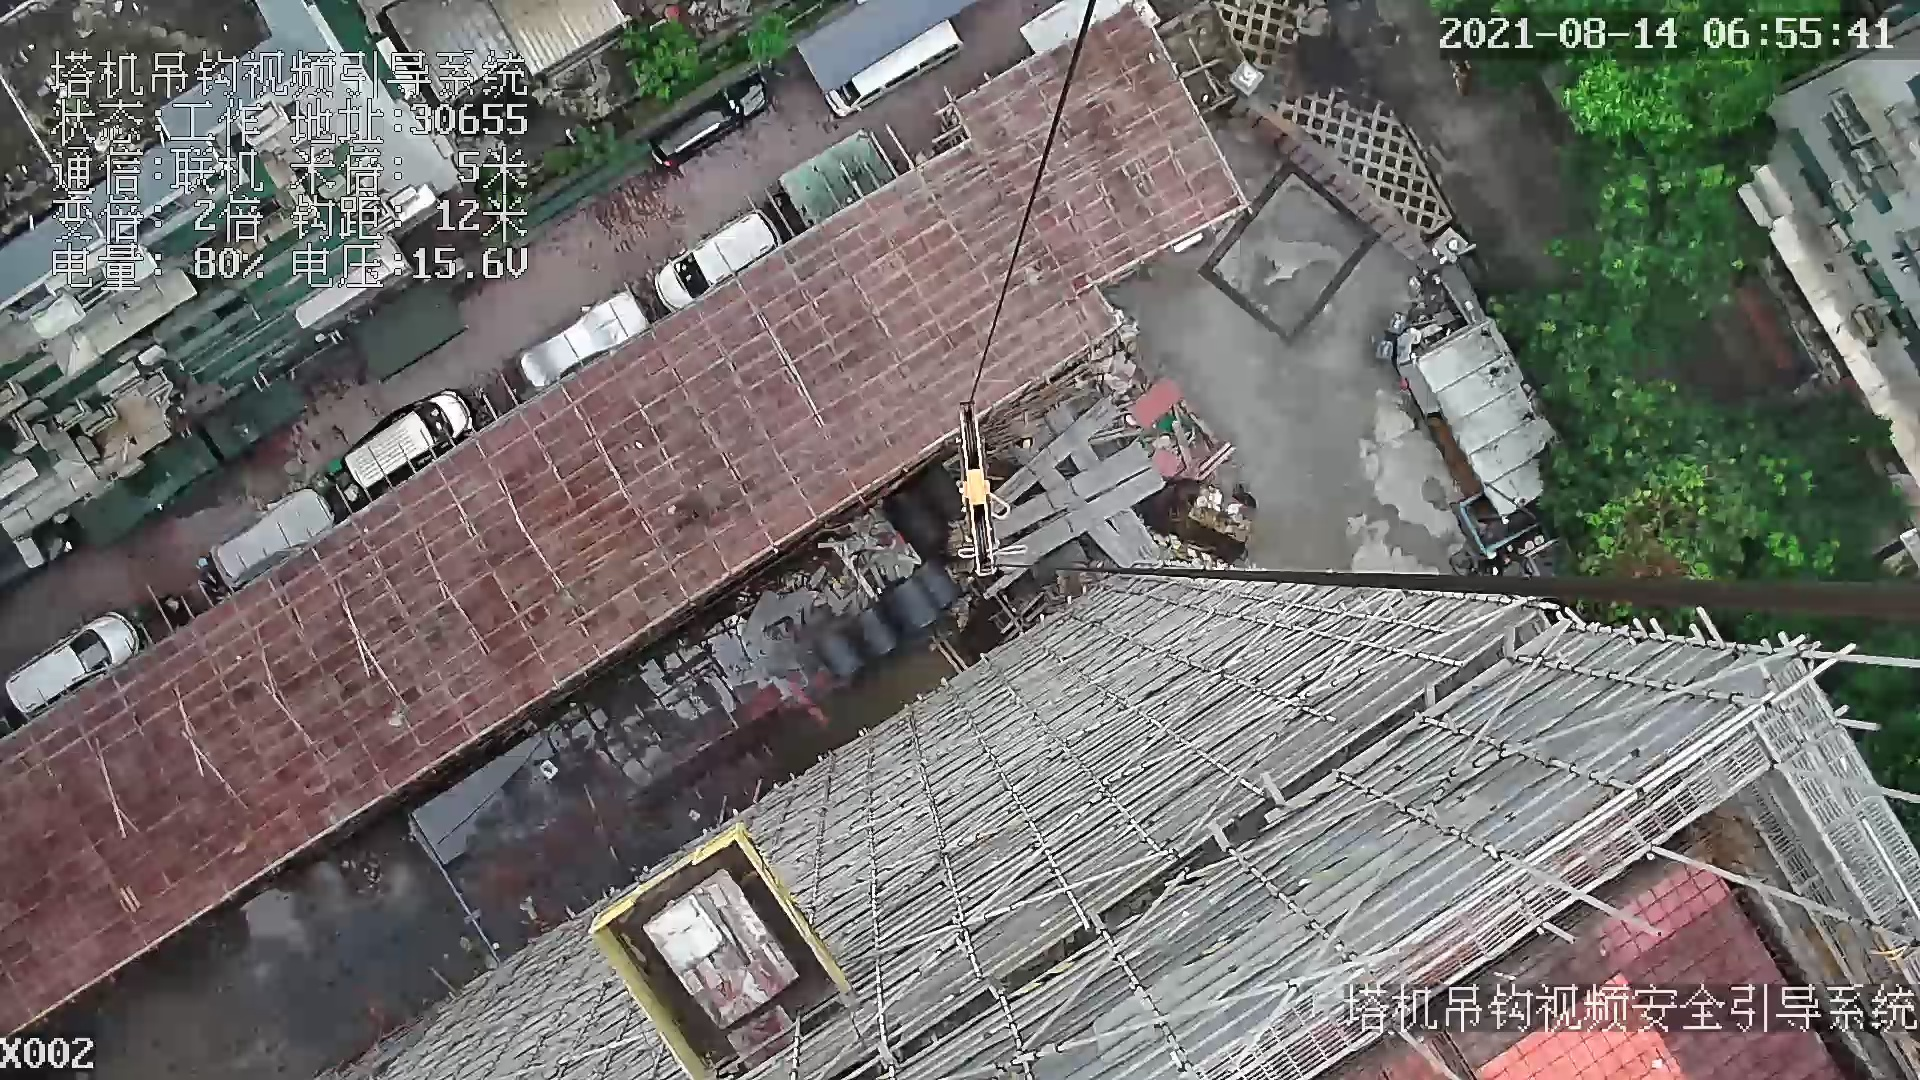board: (644, 868, 802, 1031)
hook: (959, 405, 1011, 580)
rebar: (1000, 468, 1164, 574), (996, 440, 1153, 539), (992, 400, 1118, 512), (1112, 509, 1160, 562), (1089, 521, 1134, 568)
